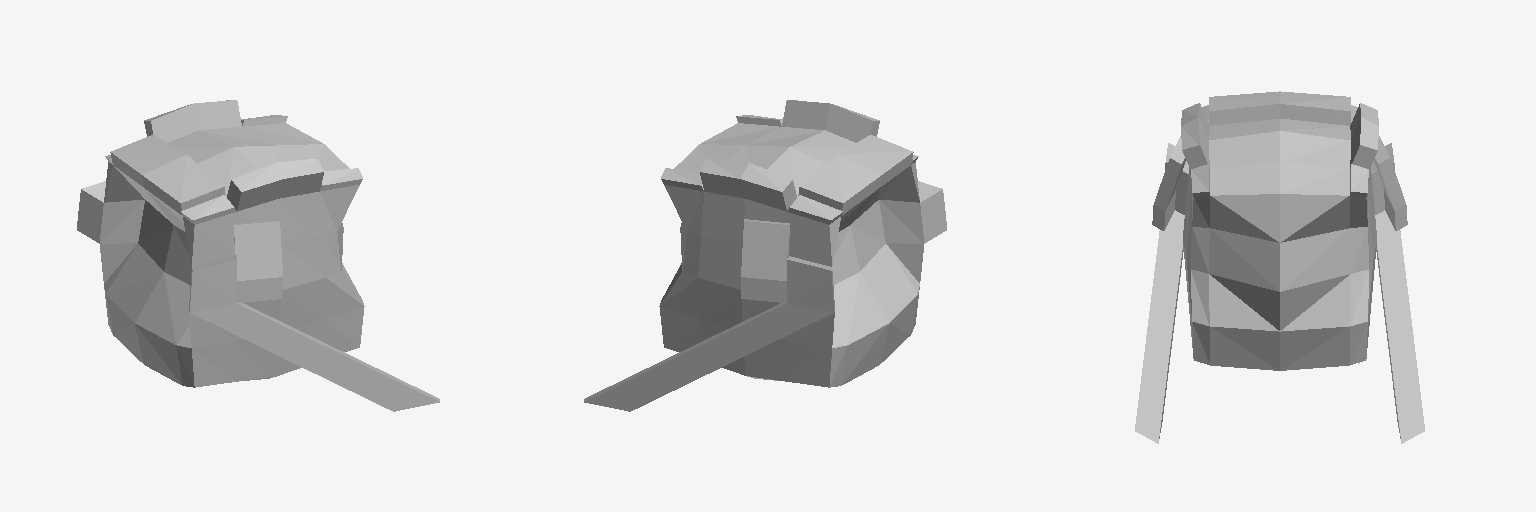
File: module_welder.obj
3 renders of one model, left to right at view 1: azimuth 30°, elevation 25°; view 2: azimuth 150°, elevation 25°; view 3: azimuth 270°, elevation 25°, orthographic.
Parts seen in each view (by area): view 1: Cube.001; view 2: Cube.001; view 3: Cube.001.
Boxes of the visible parts, x1=… form: Cube.001: x1=77, y1=100, x2=439, y2=411; Cube.001: x1=584, y1=100, x2=946, y2=411; Cube.001: x1=1135, y1=91, x2=1424, y2=443.
Size of the model in its own units: 1.94 by 1.94 by 1.99.